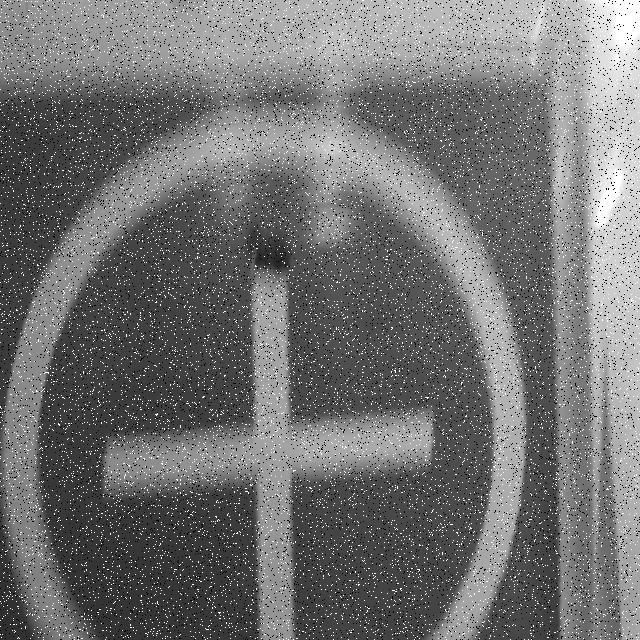circulo-com-sinal-positivo: (0, 35, 619, 640)
